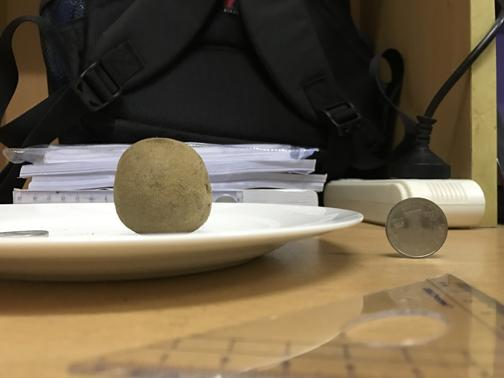coin: (384, 199, 449, 256)
qiwi: (112, 137, 212, 234)
